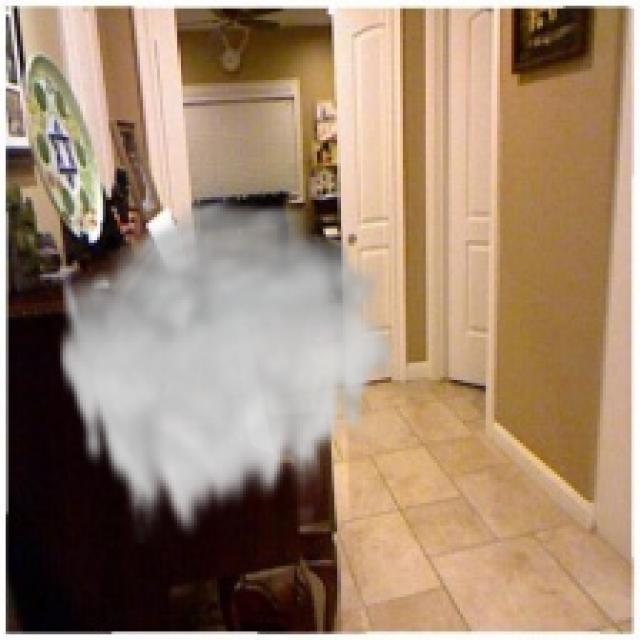Smoke: (54, 191, 400, 546)
